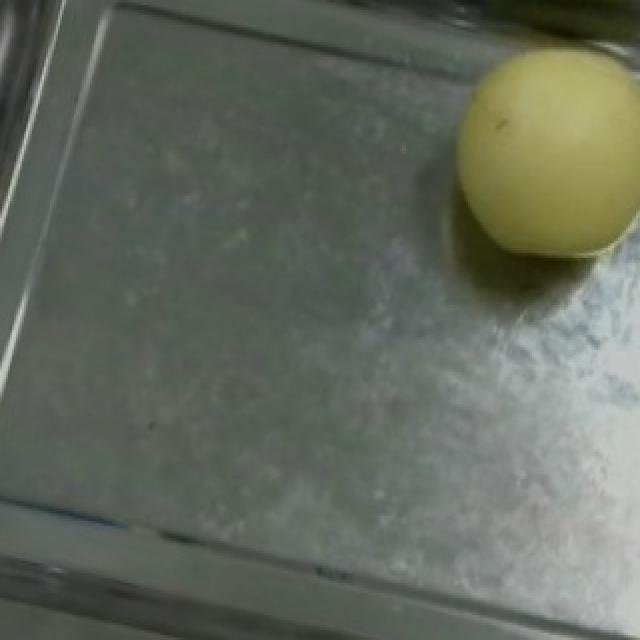Fruit: (412, 12, 640, 293)
